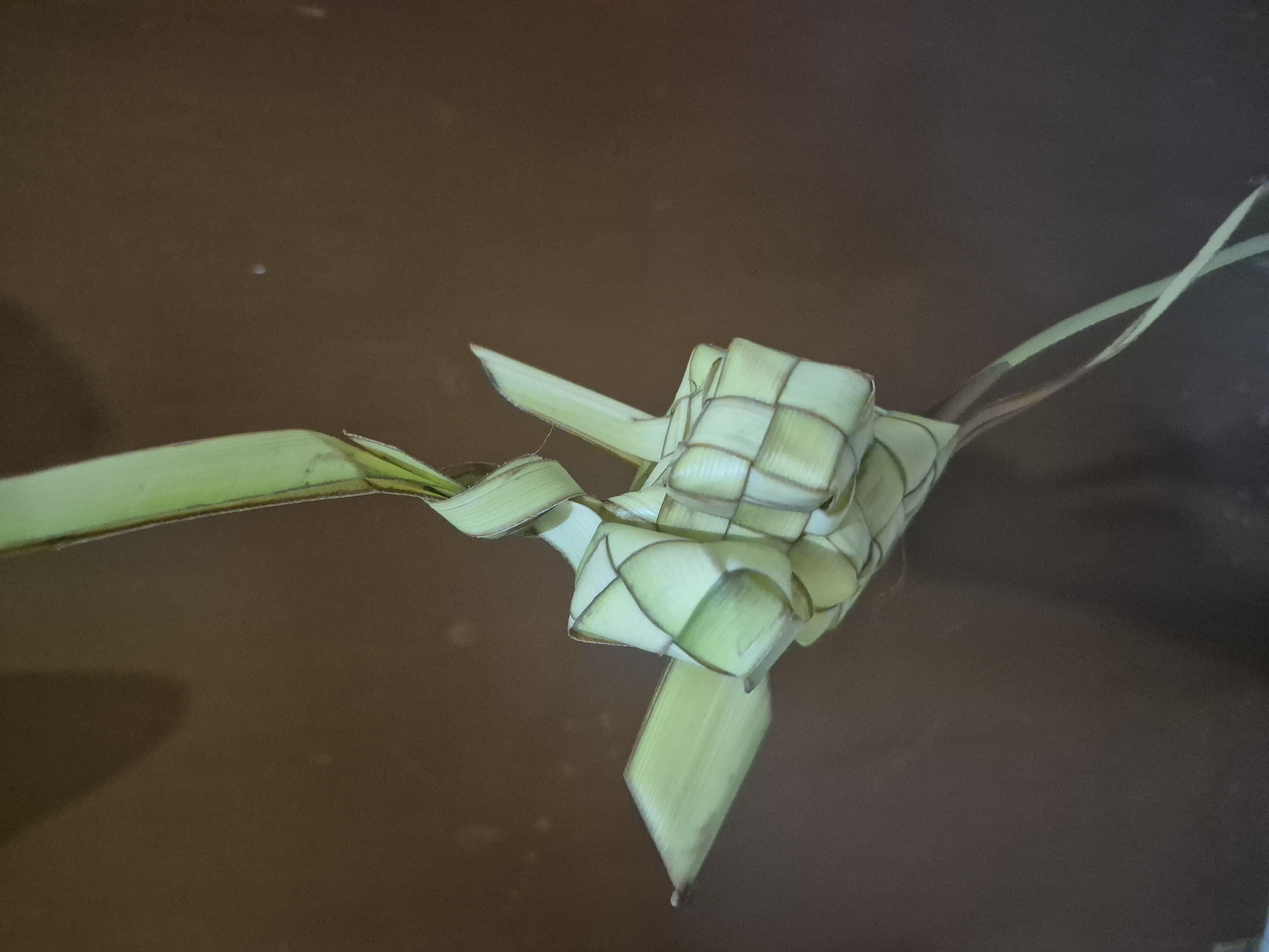Tipat Gong: (348, 428, 817, 720)
